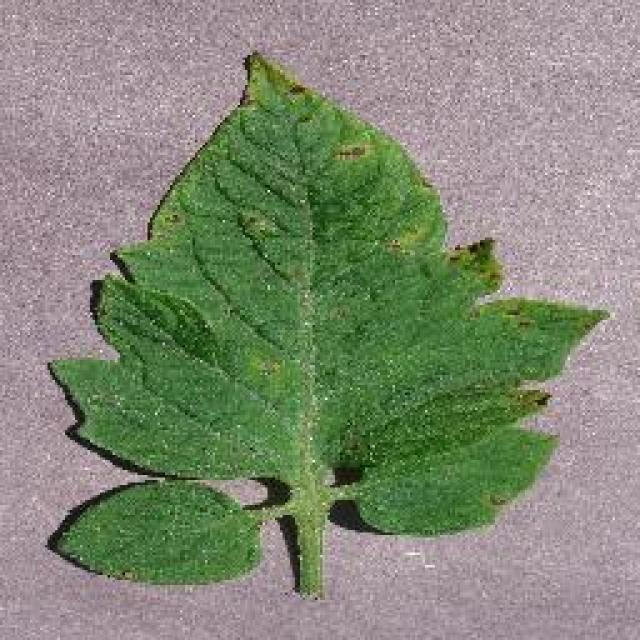Tom_Septoria_leaf_spot: (432, 230, 548, 349)
